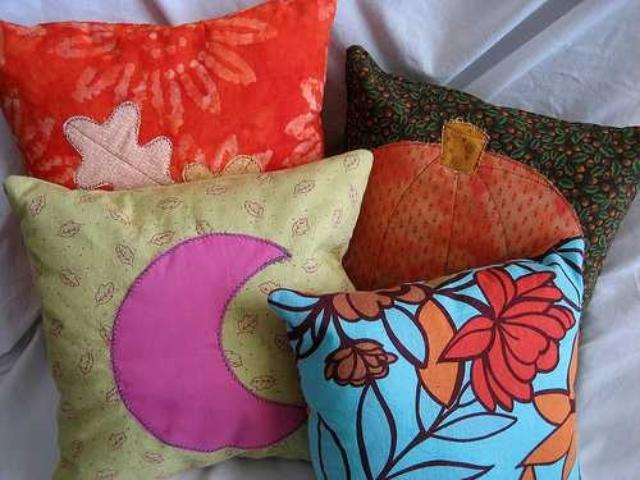pillow: (2, 146, 374, 478), (337, 38, 637, 334), (263, 276, 587, 480), (0, 0, 338, 190)
